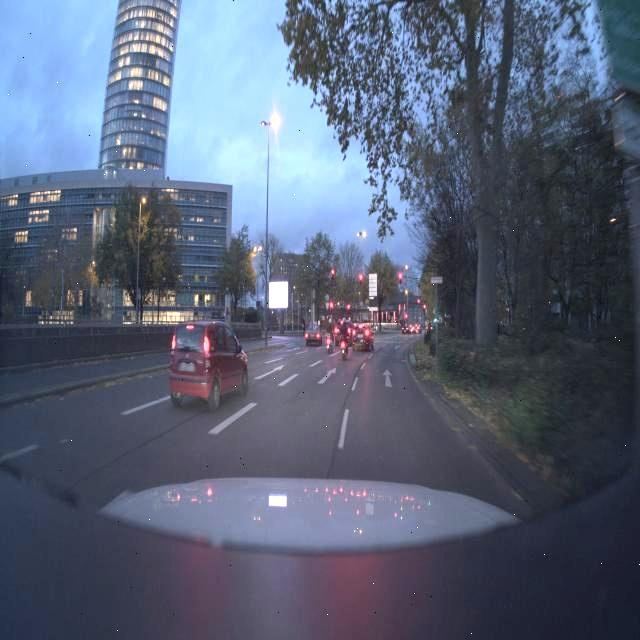Red: (320, 262, 345, 294), (392, 262, 412, 297), (356, 264, 371, 298)
